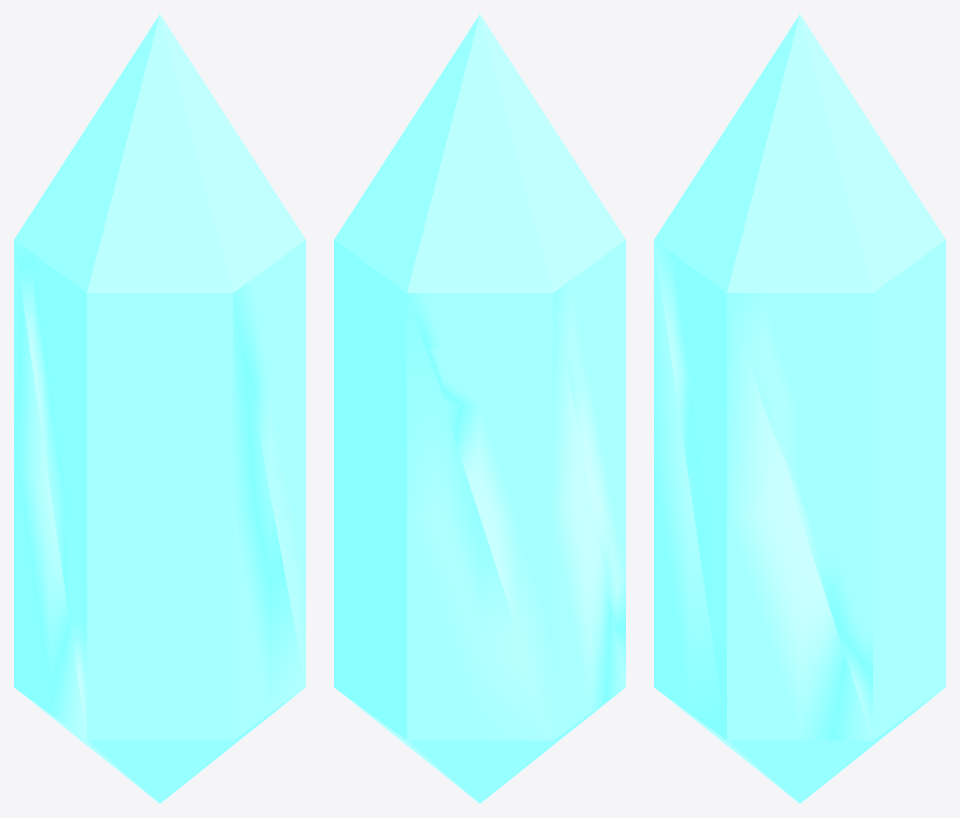
File: crystal2.glb
The picture shows the model from 3 angles, left to right: view 1: azimuth 30°, elevation 25°; view 2: azimuth 150°, elevation 25°; view 3: azimuth 270°, elevation 25°; orthographic projection.
Parts seen in each view (by area): view 1: CrystalGemShaft; view 2: CrystalGemShaft; view 3: CrystalGemShaft.
Part boxes in pixels (left/top/right/bottom): CrystalGemShaft: left=14, top=14, right=305, bottom=803; CrystalGemShaft: left=334, top=14, right=625, bottom=803; CrystalGemShaft: left=654, top=14, right=945, bottom=803.
Bounding box in the file's own units: 0.5889 × 2.03 × 0.68.
